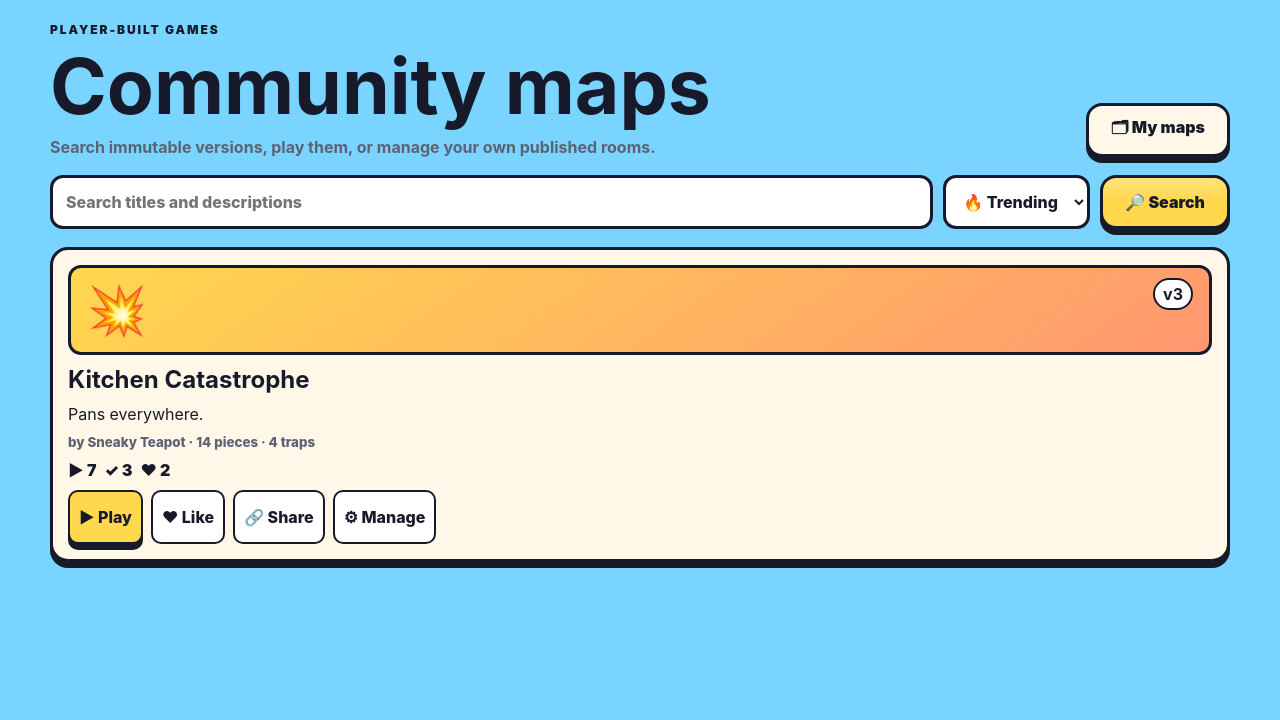
Test: community map browser › lets an owner inspect history and rollback without mutating old versions
Expected: the heading "Kitchen Catastrophe" is shown, [68,365,310,394]
What coordinates should you click on to do the following:
click the button "⚙ Manage"
I would click on:
 (384, 517)
Its box is [333,490,436,544].
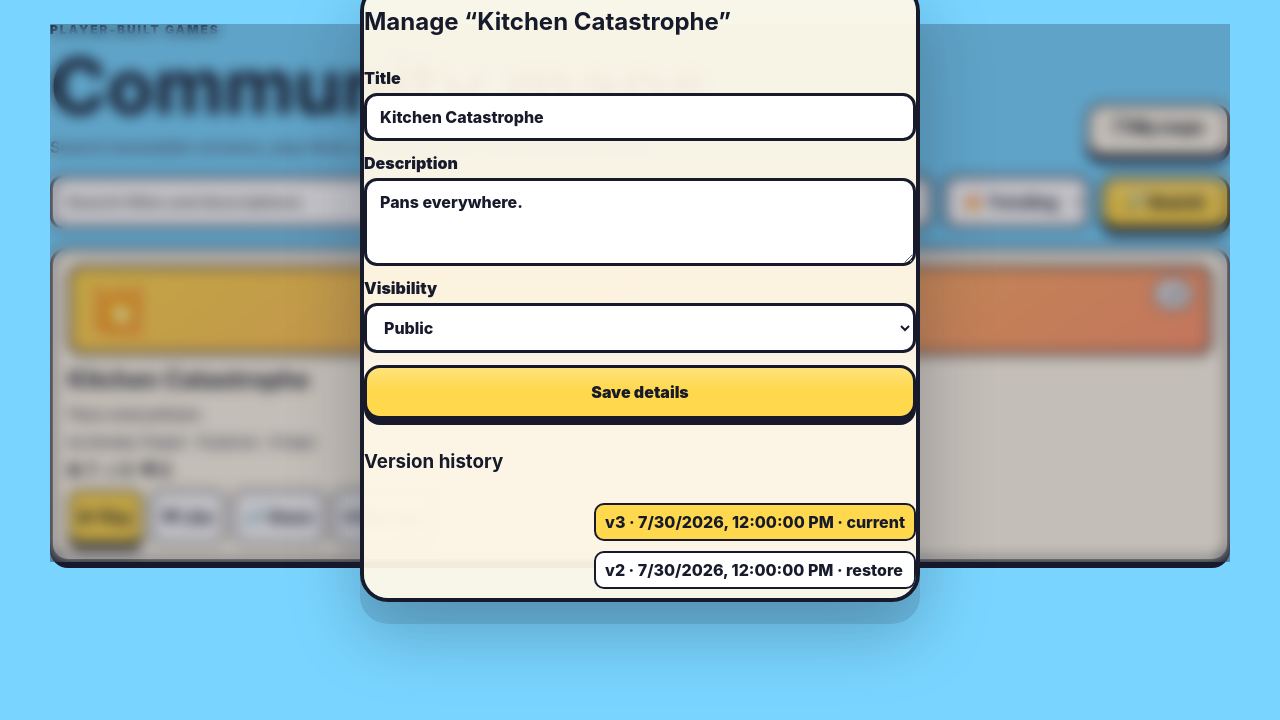
Expected: the heading "Manage “Kitchen Catastrophe”" is shown, [364,7,731,36]
What coordinates should you click on to do the following:
click the button "v2 · 7/30/2026, 12:00:00 PM · restore"
I would click on:
 (755, 570)
Its box is [594,552,916,590].
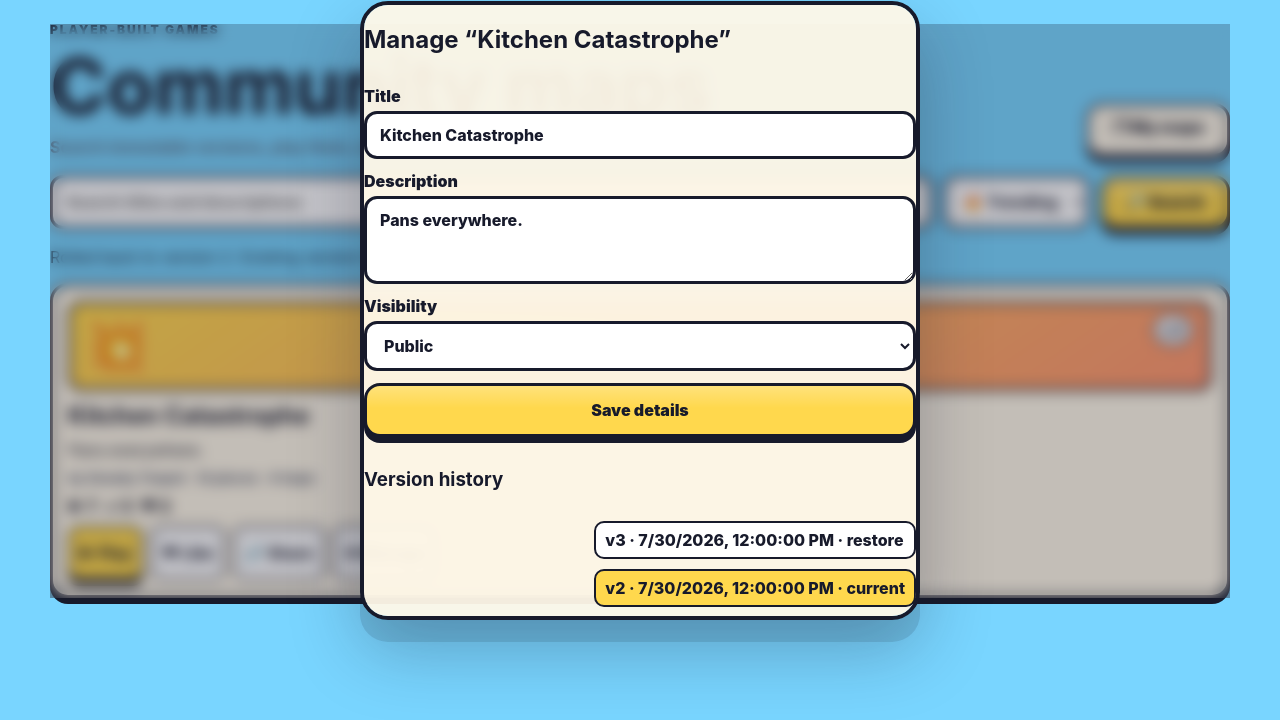
Expected: the text "Rolled back to version 2. Existing version links remain unchanged." is shown, [50,247,548,267]
